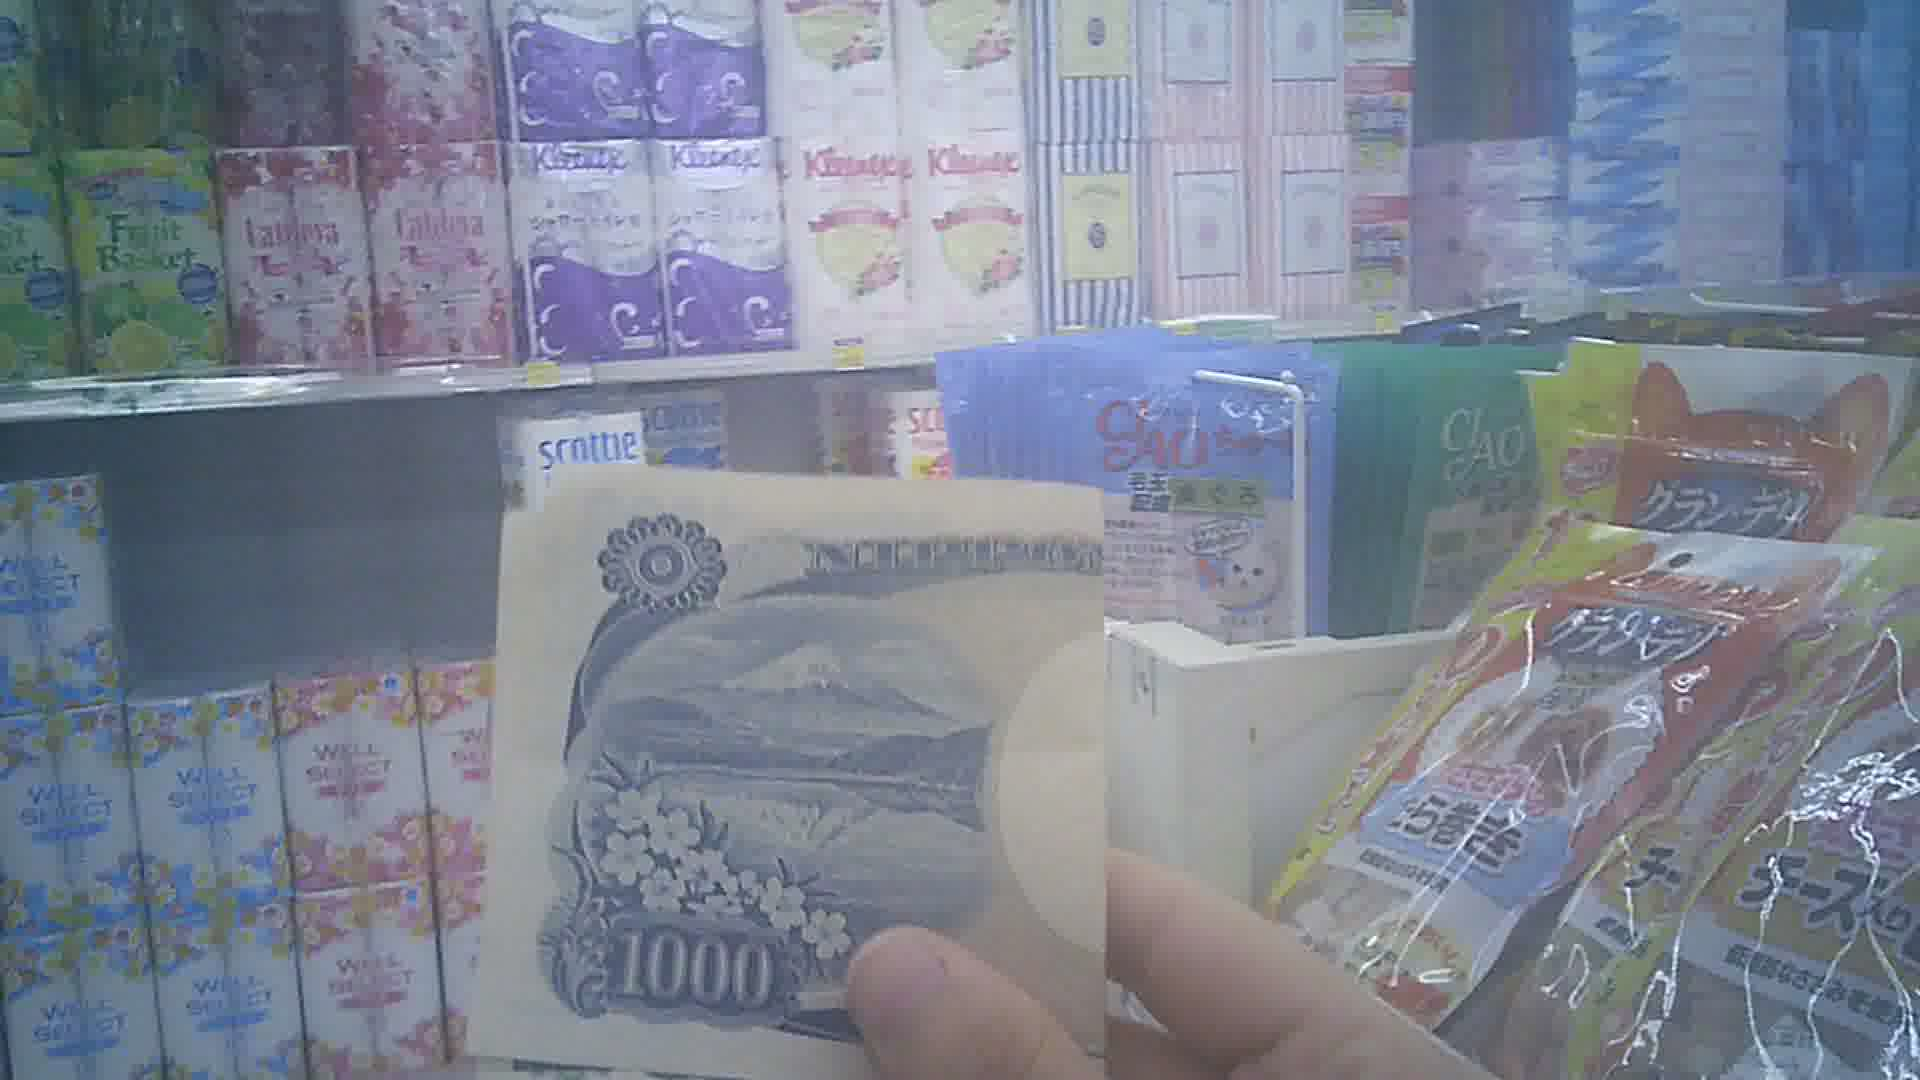1,000 Yen: (491, 462, 1139, 1079)
